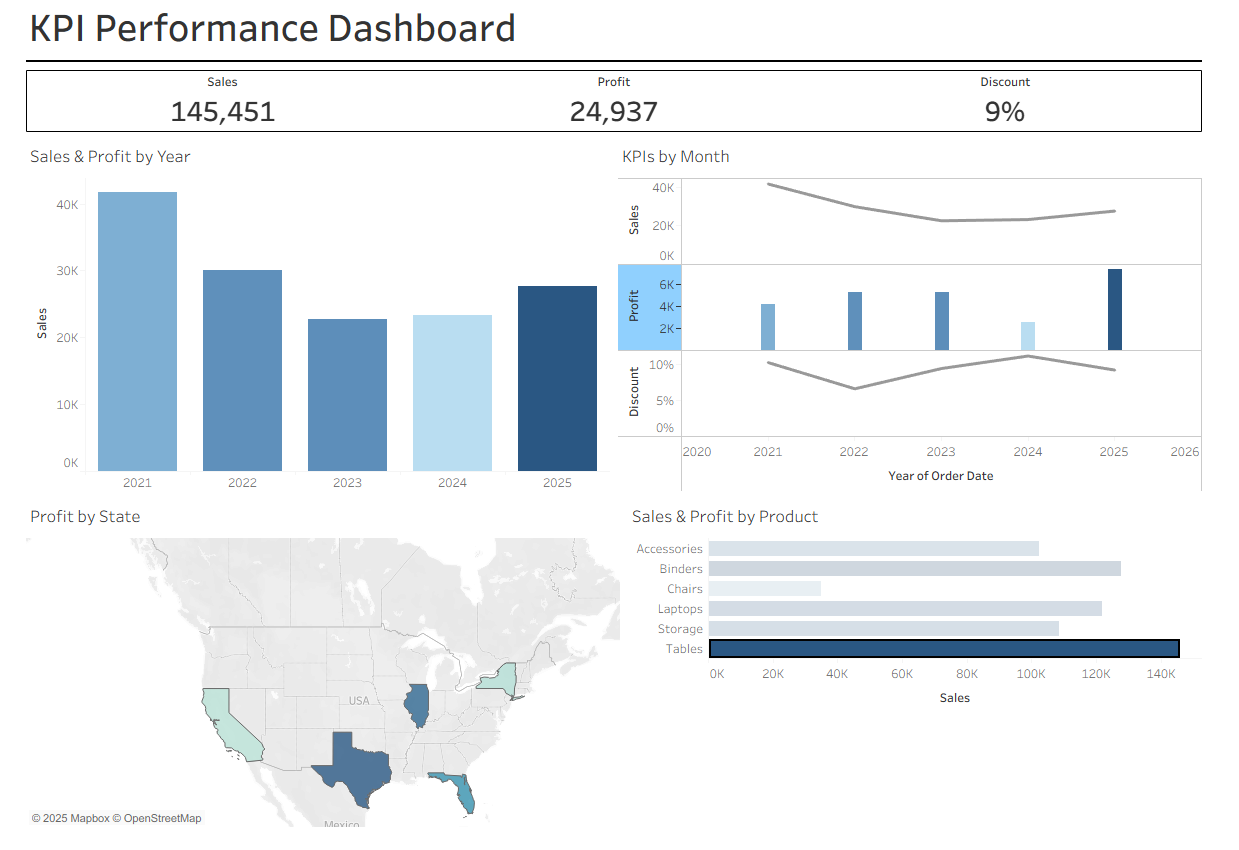

This screenshot's page, from the dashboard's own definition file:
{"tool":"tableau","page":{"name":"Dashboard 1","canvas":[1200,850],"ordinal":0},"visuals":[{"type":"title","box":[8,8,1184,59]},{"type":"blank","box":[8,67,1184,10]},{"type":"worksheet","title":"KPIs","mark":"Automatic","box":[8,77,1184,70]},{"type":"worksheet","title":"Sales & Profit by Year","mark":"Bar","rows":["Sales"],"cols":["Order Date"],"box":[8,147,592,360]},{"type":"worksheet","title":"KPIs by Month","mark":"Automatic","rows":["Sales","Profit","Discount"],"cols":["Order Date"],"box":[600,147,592,360]},{"type":"worksheet","title":"Profit by State","mark":"Automatic","box":[8,507,602,335]},{"type":"worksheet","title":"Sales & Profit by Product","mark":"Automatic","rows":["Sub-Category"],"cols":["Sales"],"box":[610,507,582,335]}]}

Visuals, with their boxes on the page's 1200x850 design canvas (x1, y1, x2, y2). These are canvas units, not pixel positions in the 1239x850 screenshot, which may show the page scaled, cropped or inside an application window:
title: select_region(8, 8, 1192, 67)
blank: select_region(8, 67, 1192, 77)
"KPIs" worksheet: select_region(8, 77, 1192, 147)
"Sales & Profit by Year" worksheet (Bar marks): select_region(8, 147, 600, 507)
"KPIs by Month" worksheet: select_region(600, 147, 1192, 507)
"Profit by State" worksheet: select_region(8, 507, 610, 842)
"Sales & Profit by Product" worksheet: select_region(610, 507, 1192, 842)
